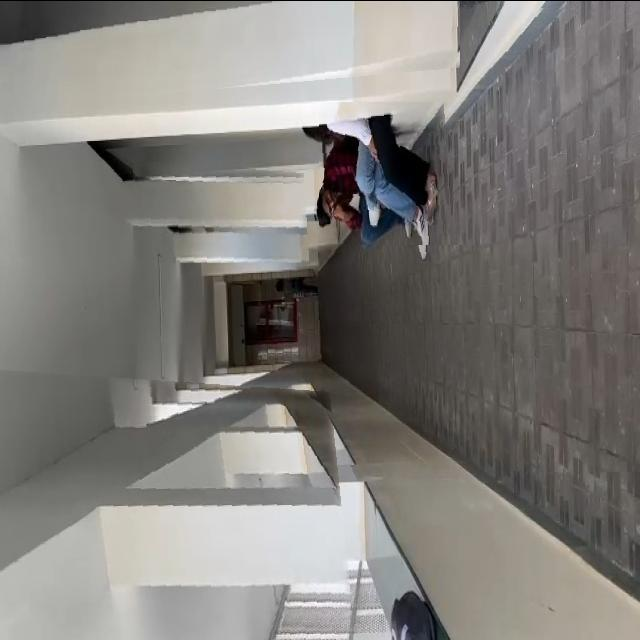floor: (483, 3, 640, 471), (318, 244, 480, 370)
moving_object: (319, 101, 454, 266)
wall: (0, 367, 358, 640), (4, 0, 460, 107), (133, 159, 310, 262)
